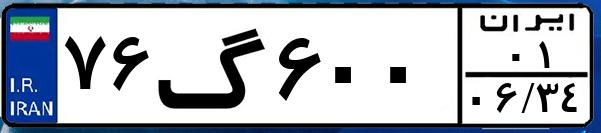0: (385, 28, 445, 110), (330, 28, 385, 110), (508, 27, 537, 80), (470, 70, 495, 125)
1: (537, 27, 568, 80)
3: (535, 70, 560, 125)
4: (560, 70, 590, 125)
6: (270, 28, 330, 110), (110, 28, 156, 98), (495, 70, 520, 125)
7: (57, 26, 110, 100)
گ: (156, 12, 270, 120)
